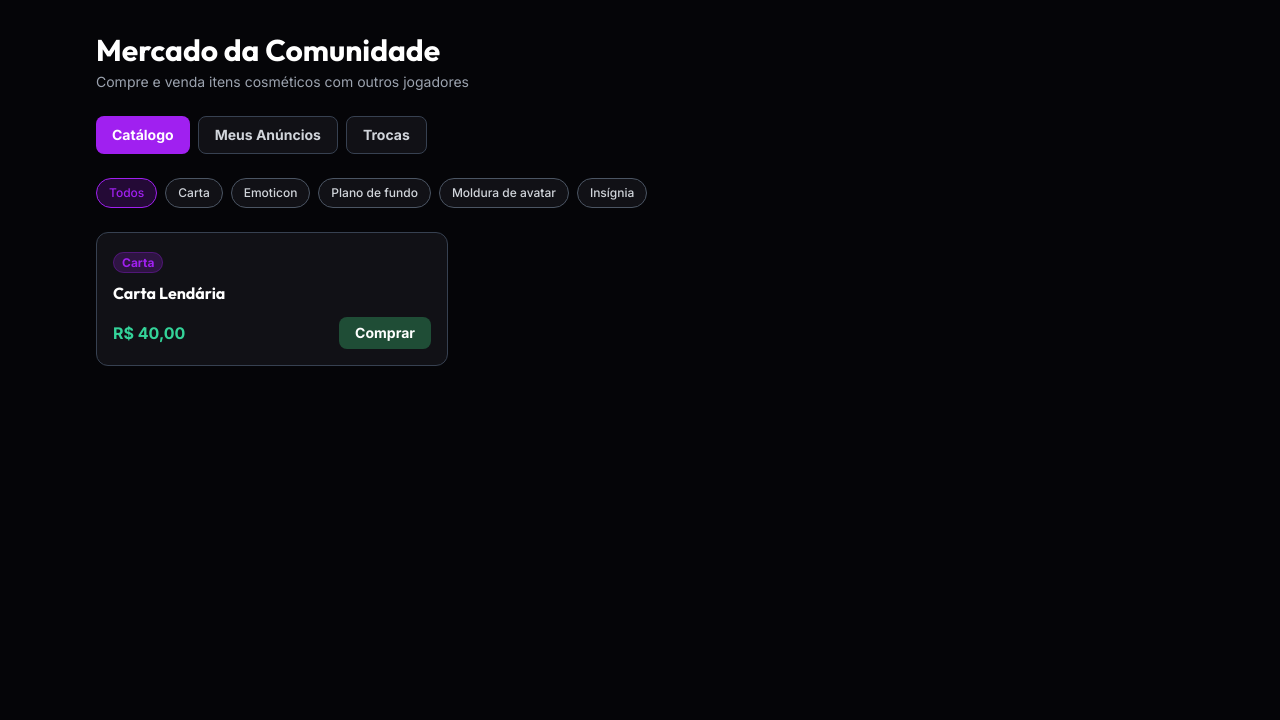
Scenario: Market Page Component › lista anúncios do catálogo e permite comprar
Expected: the heading "Carta Lendária" is shown, [113,283,225,303]
Step 1. Click the button "Comprar" → (385, 333), box [339,317,431,349]
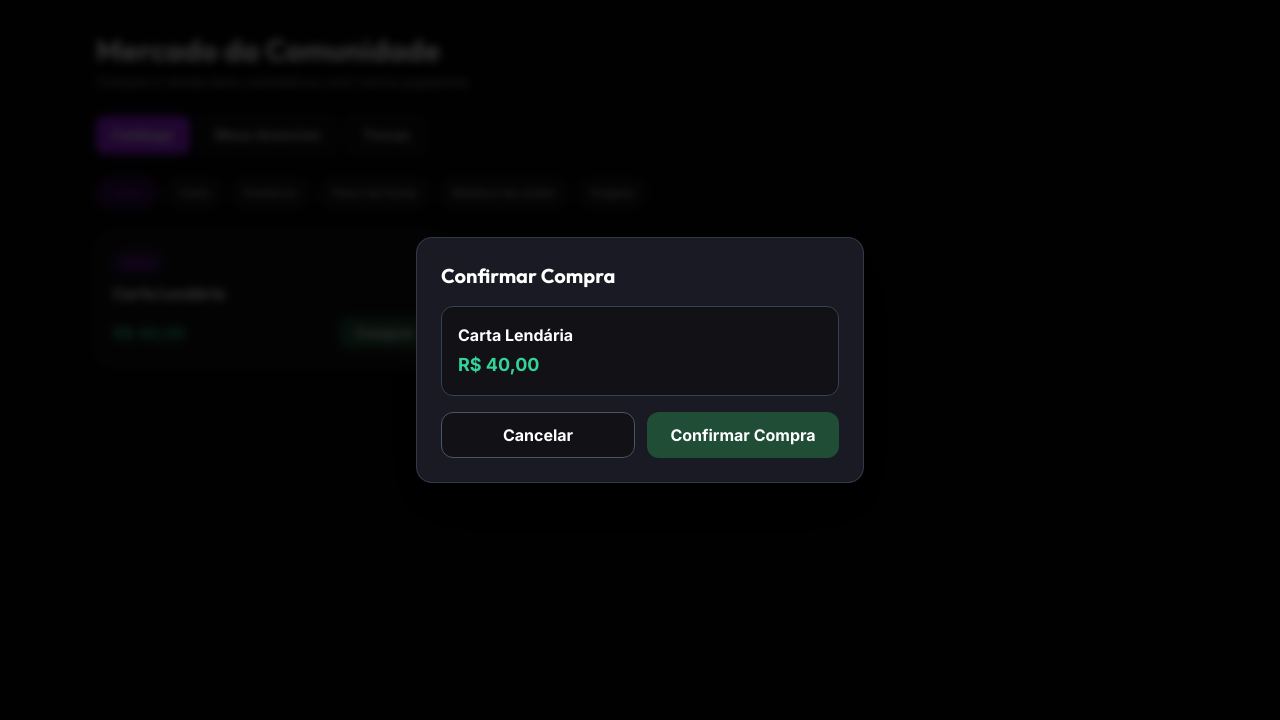
Expected: the heading "Confirmar Compra" is shown, [441,263,615,288]
Step 2. Click the button "Confirmar Compra" → (743, 435), box [647,412,839,458]
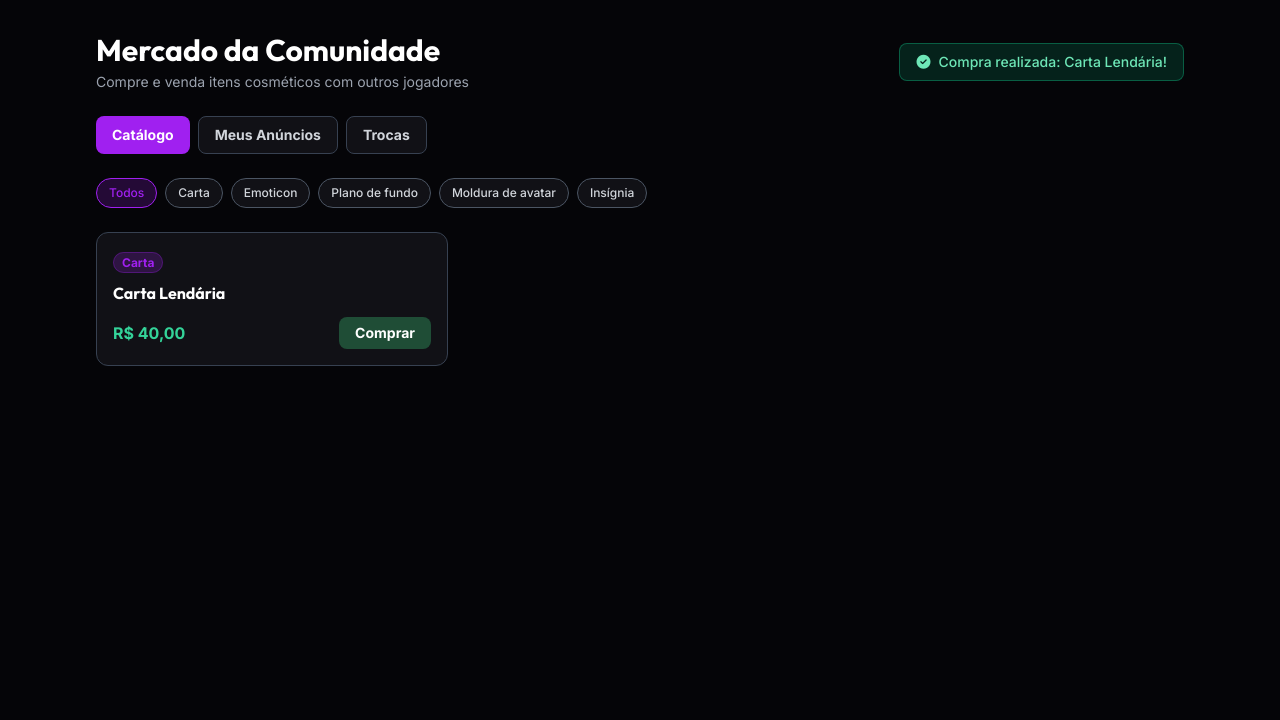
Expected: the heading "Confirmar Compra" is gone
